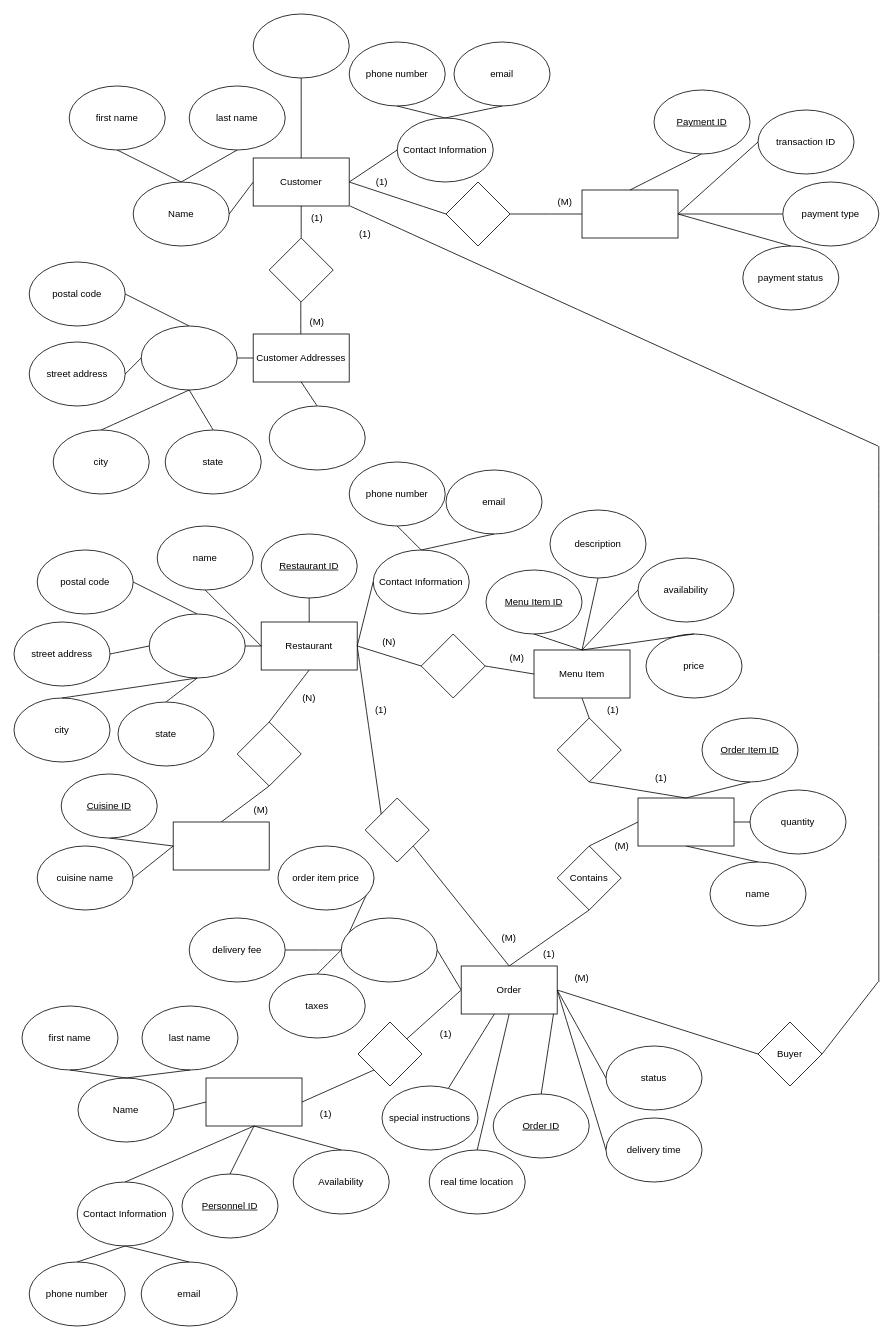
Some shapes in this 894 by 1340 pixel diagram are drawn without their labels. Each missing label, with the centre of its shape:
"Address" belongs at pixel 188 357.
"Address ID" belongs at pixel 316 437.
"Charges" belongs at pixel 388 949.
"Cuisine" belongs at pixel 220 845.
"Customer ID" belongs at pixel 300 45.
"Delivers" belongs at pixel 389 1053.
"Delivery Personnel" belongs at pixel 253 1101.
"Has" belongs at pixel 452 665.
"Lives at" belongs at pixel 300 269.
"Location" belongs at pixel 196 645.
"Order Item" belongs at pixel 685 821.
"Paid" belongs at pixel 477 213.
"Payment Method" belongs at pixel 629 213.
"Seller" belongs at pixel 396 829.
"Specializes" belongs at pixel 268 753.
"Type" belongs at pixel 588 749.
